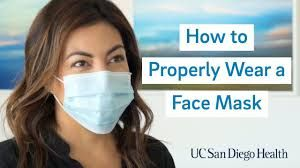with-mask: (35, 9, 143, 140)
